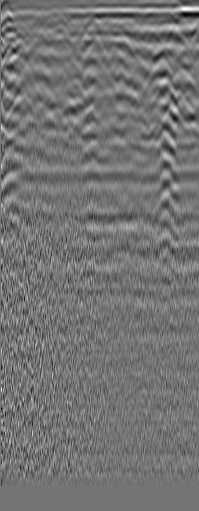오수: (25, 30, 45, 50)
우수: (155, 46, 175, 66)
